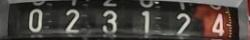digits: (174, 12, 192, 36), (210, 12, 226, 38), (64, 8, 79, 32), (102, 10, 118, 32), (28, 8, 42, 32), (140, 9, 152, 37)
